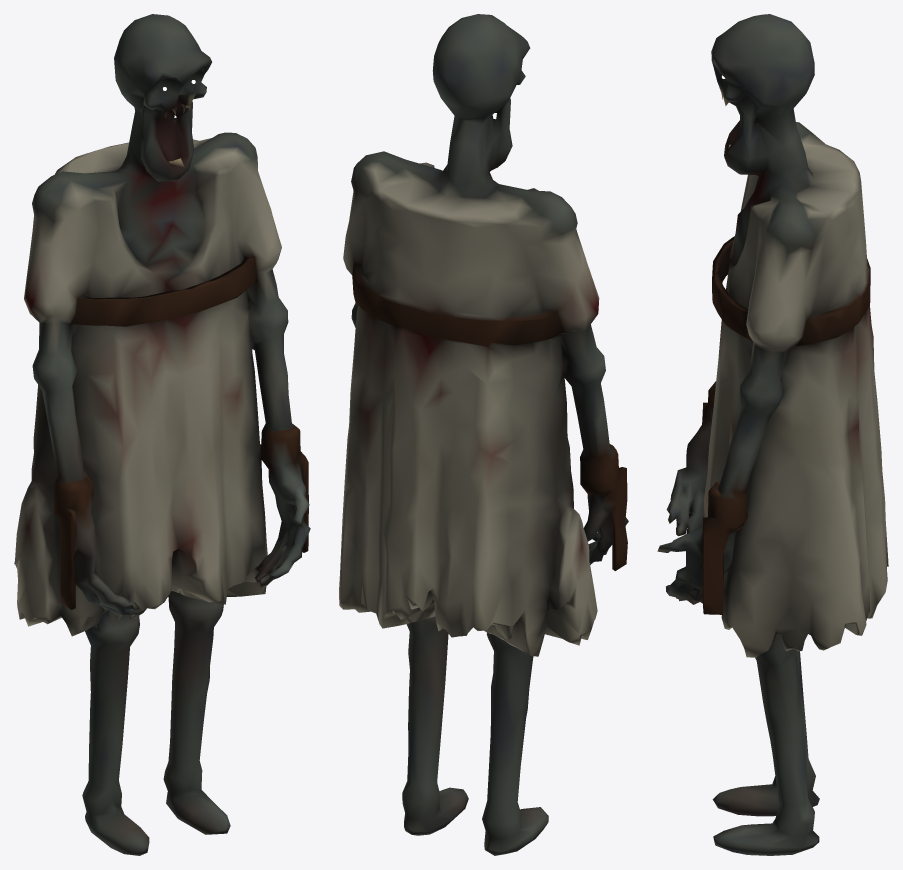
File: mn_patient.glb
3 renders of one model, left to right at view 1: azimuth 30°, elevation 25°; view 2: azimuth 150°, elevation 25°; view 3: azimuth 270°, elevation 25°, orthographic.
Visible parts, largest first — view 1: mn_patient; view 2: mn_patient; view 3: mn_patient.
Part boxes in pixels (x1=…): mn_patient: x1=14, y1=14, x2=310, y2=855; mn_patient: x1=339, y1=14, x2=628, y2=855; mn_patient: x1=657, y1=14, x2=888, y2=855.
Size of the model in its own units: 0.5917 by 1.85 by 0.4747.
